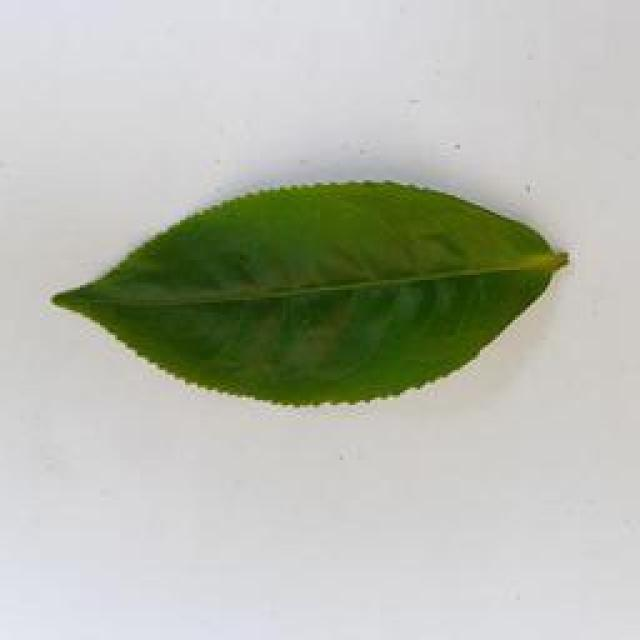Healthy: (52, 184, 580, 410)
